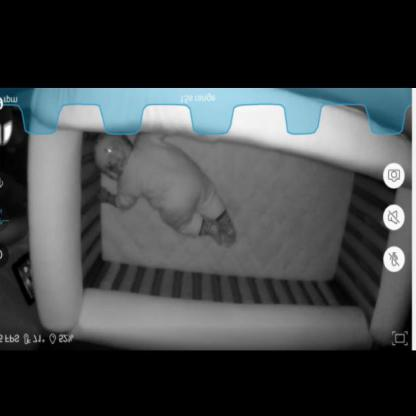baby: (93, 132, 236, 249)
